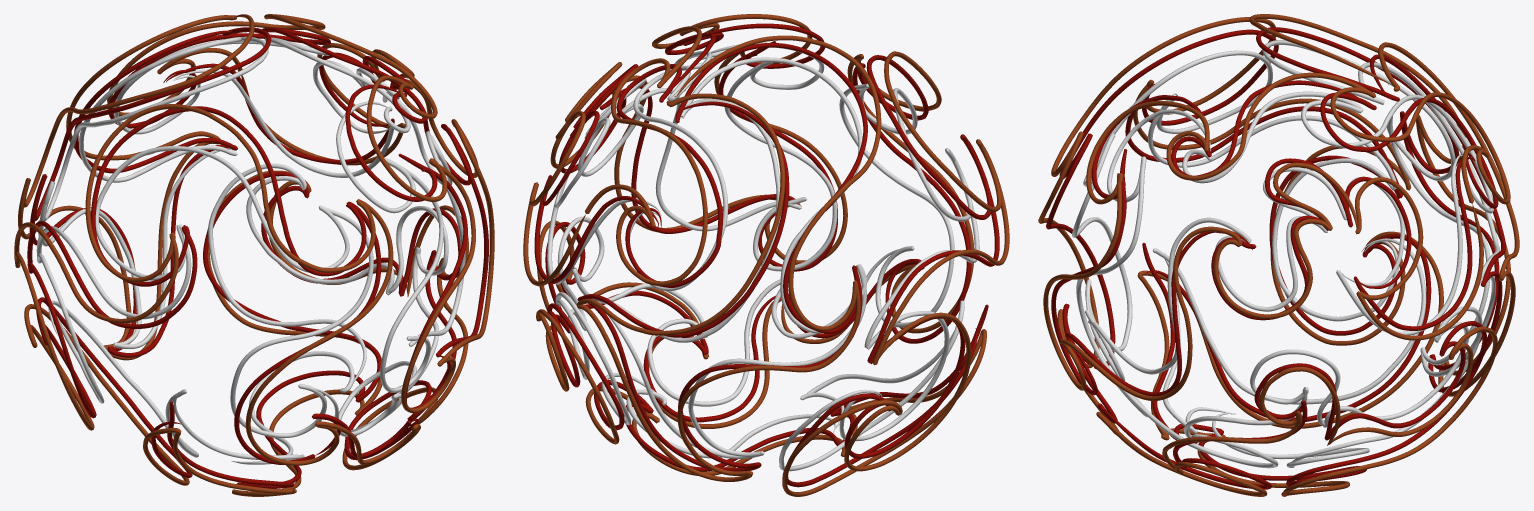
3 renders of one model, left to right at view 1: azimuth 30°, elevation 25°; view 2: azimuth 150°, elevation 25°; view 3: azimuth 270°, elevation 25°, orthographic.
Visible parts, largest first — view 1: Untitled_22_Wire_geo (×2); view 2: Untitled_22_Wire_geo (×2); view 3: Untitled_22_Wire_geo (×2).
Boxes of the visible parts, box(x1,y1,x2,y2) form: Untitled_22_Wire_geo (×2): box(14, 14, 494, 496); Untitled_22_Wire_geo (×2): box(523, 14, 1009, 496); Untitled_22_Wire_geo (×2): box(1038, 14, 1519, 496).
Bounding box in the file's own units: 10.98 × 10.99 × 10.98.
